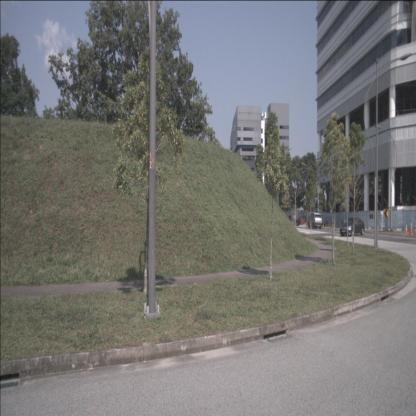movable_object-trafficcone: (409, 222, 414, 235), (404, 224, 408, 237)
vehicle-car: (340, 218, 365, 236), (307, 212, 323, 228)
